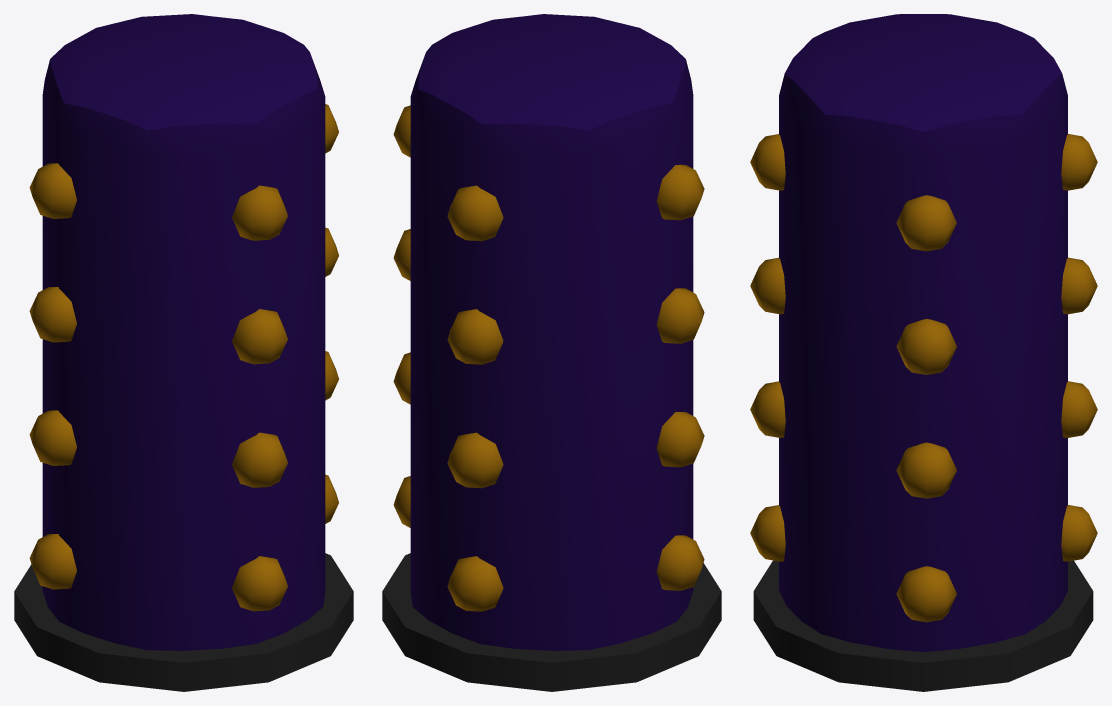
The model's file is OBS_Cylinder.fbx.
3 views of the same model, side by side, from view 1: azimuth 30°, elevation 25°; view 2: azimuth 150°, elevation 25°; view 3: azimuth 270°, elevation 25° (orthographic).
Visible parts, largest first — view 1: OBS_Cylinder, CylinderBottom; view 2: OBS_Cylinder, CylinderBottom; view 3: OBS_Cylinder, CylinderBottom.
Boxes of the visible parts, x1,y1,x2,y2 form: OBS_Cylinder: [29, 14, 338, 650]; CylinderBottom: [14, 553, 353, 691]; OBS_Cylinder: [393, 14, 704, 650]; CylinderBottom: [382, 553, 721, 691]; OBS_Cylinder: [750, 14, 1097, 651]; CylinderBottom: [753, 560, 1093, 691].
Bounding box in the file's own units: 232 × 407 × 229.
